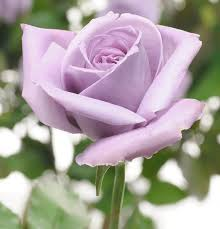rose: (12, 12, 220, 168)
